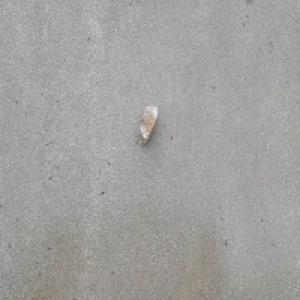Rock: (138, 104, 158, 150)
